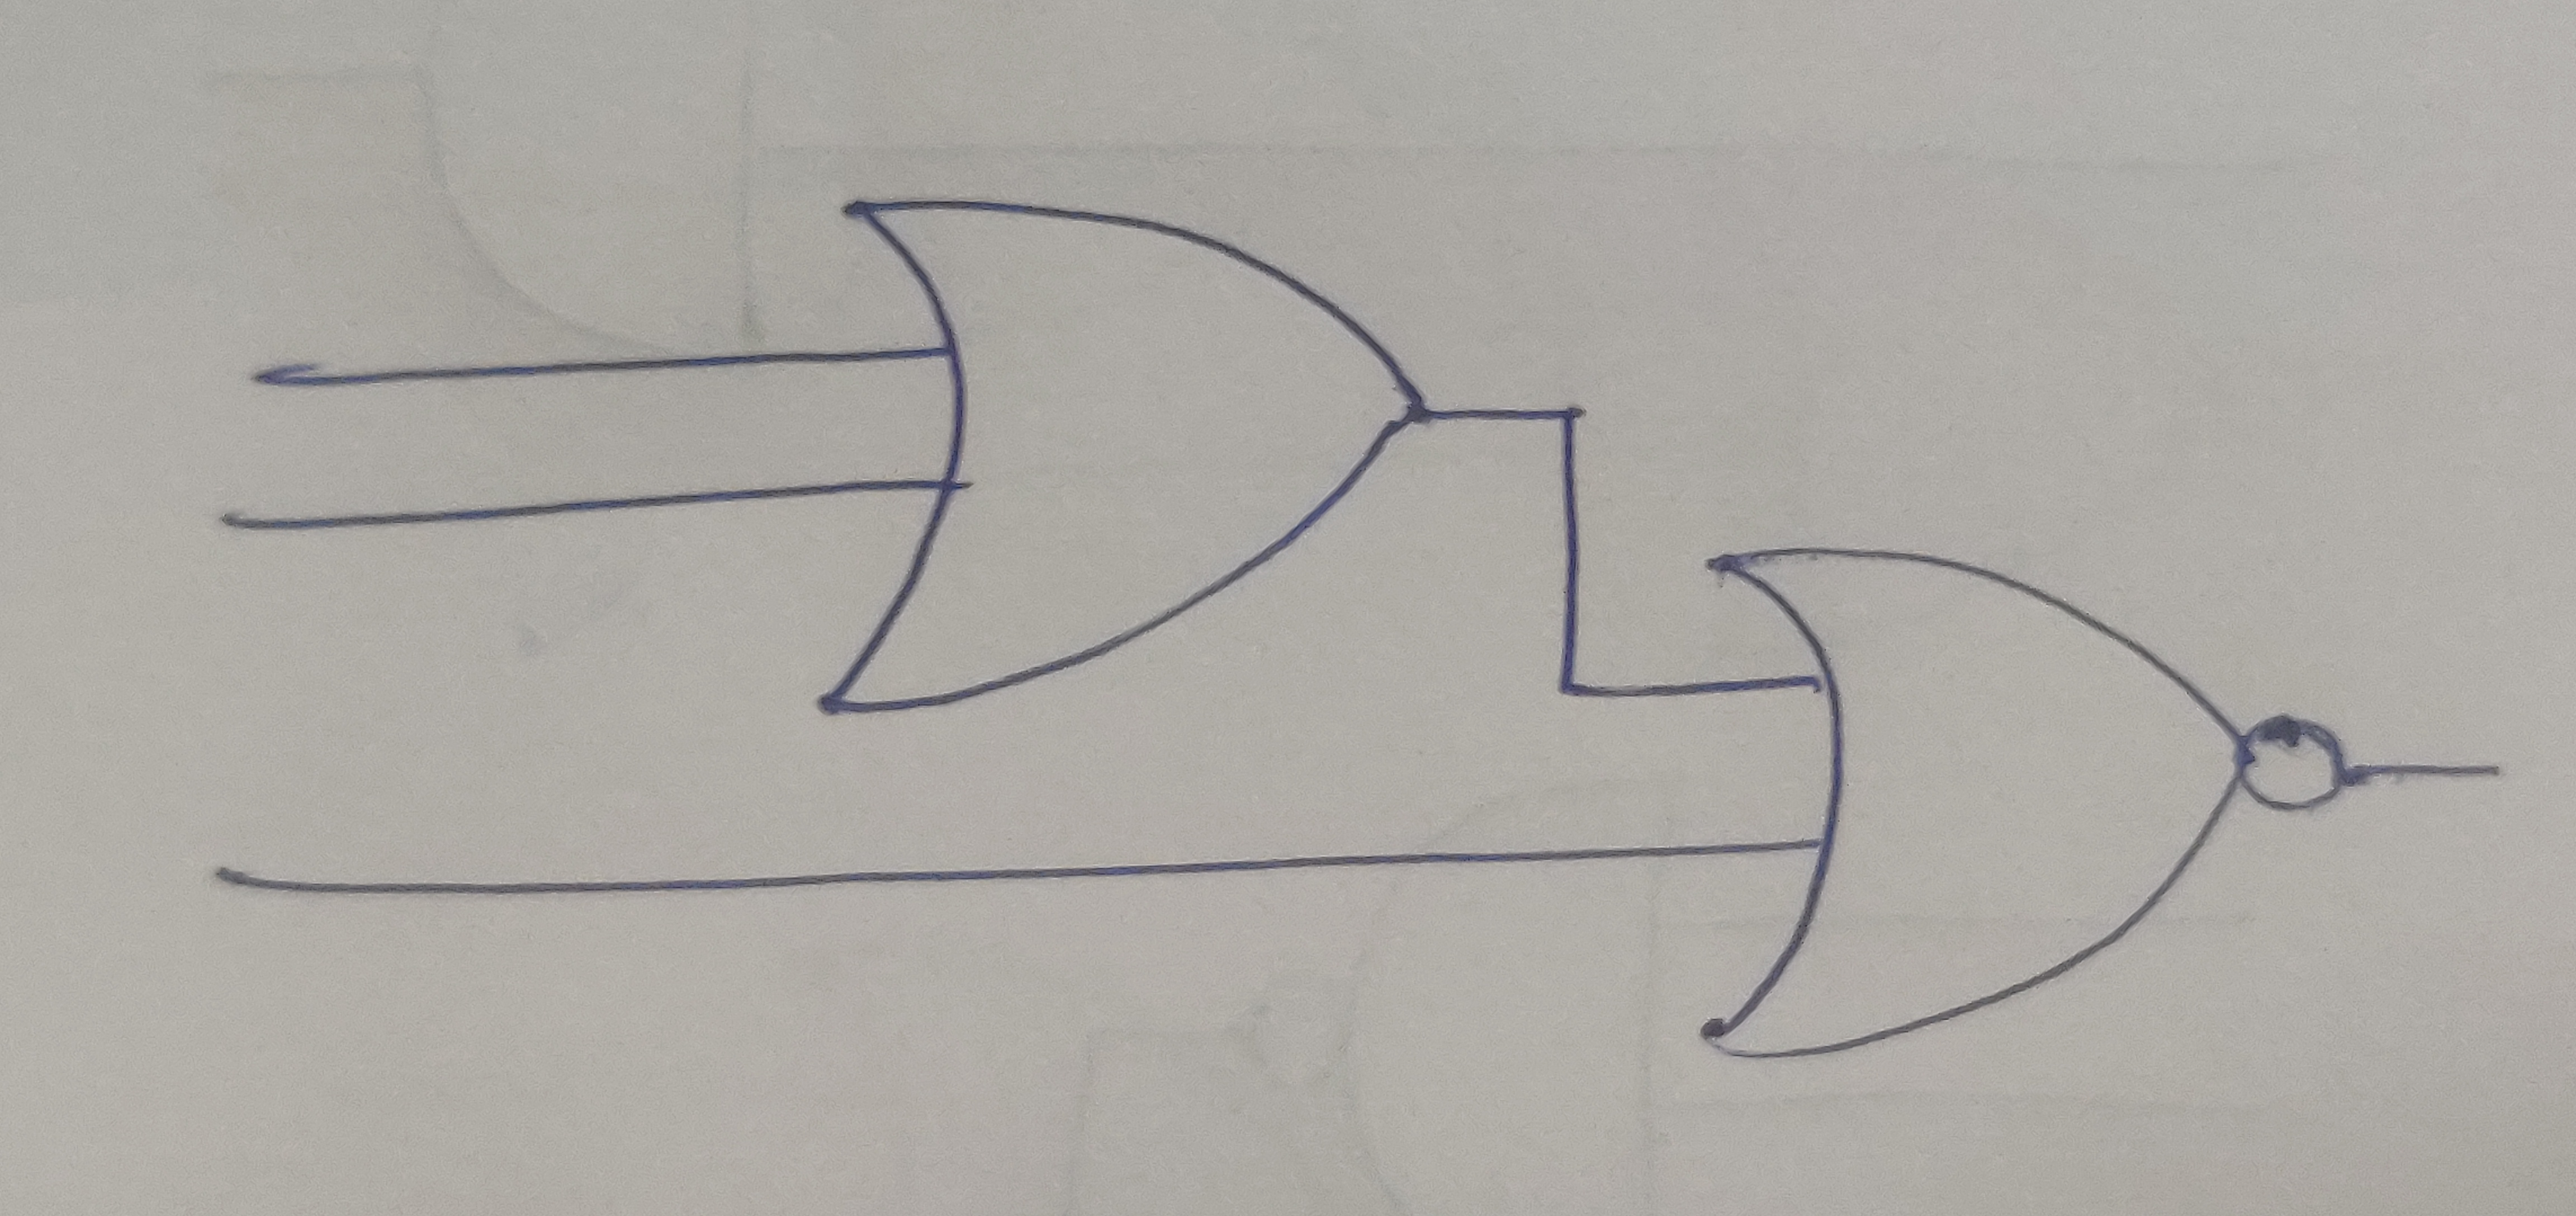not: (2238, 713, 2349, 818)
or: (821, 191, 1426, 716), (1695, 546, 2247, 1065)
